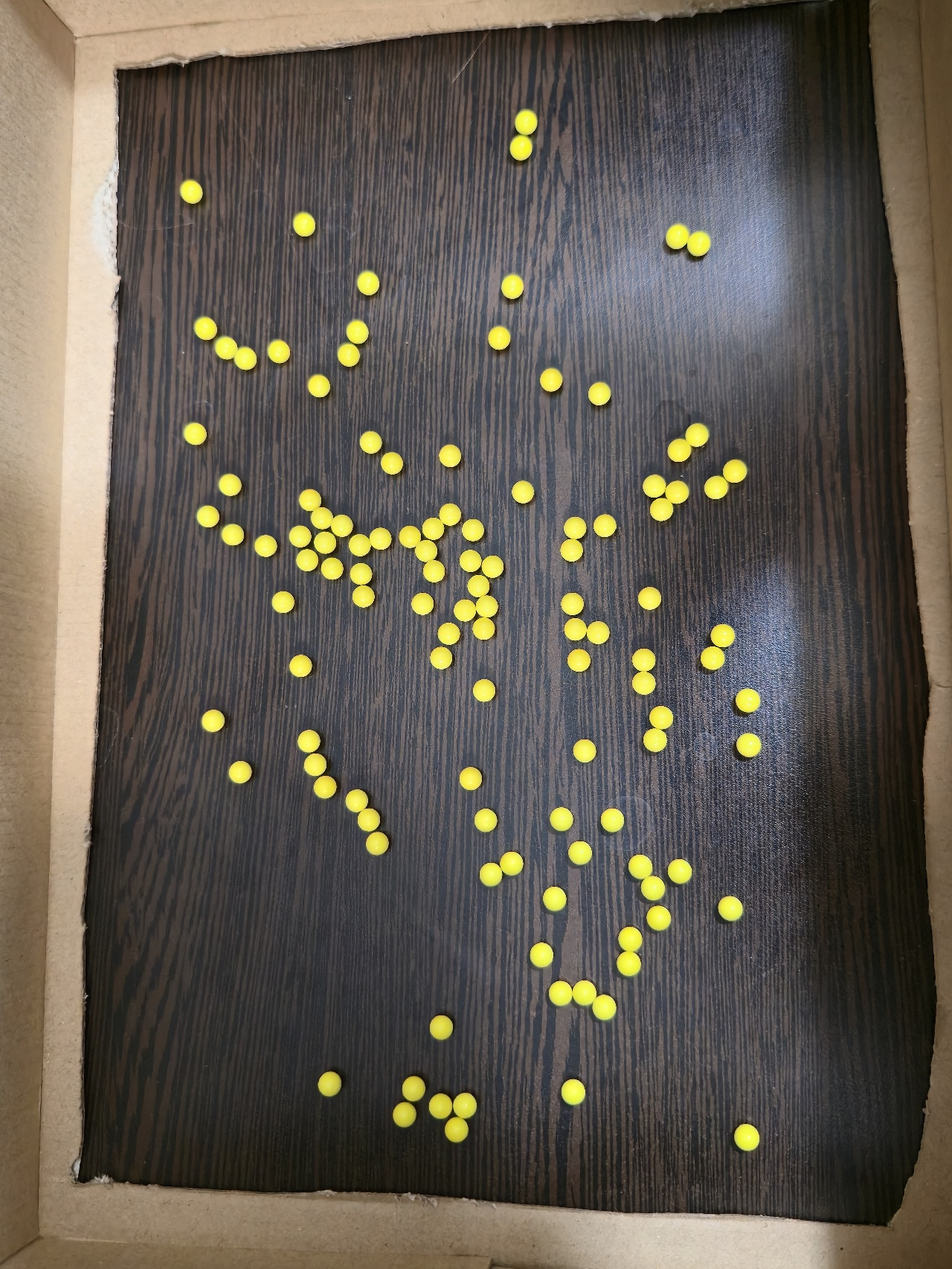yellow_bead: (740, 1131, 753, 1145), (459, 1099, 471, 1112), (578, 987, 591, 999), (624, 934, 637, 946), (647, 881, 659, 894), (634, 861, 646, 874), (567, 1086, 579, 1098), (599, 1001, 611, 1013), (555, 988, 567, 1000), (674, 866, 686, 878), (649, 734, 661, 746), (742, 695, 754, 707), (707, 652, 719, 664), (692, 238, 704, 250), (435, 1100, 446, 1113), (536, 949, 547, 962), (654, 912, 665, 925), (724, 903, 737, 914), (220, 342, 233, 353), (521, 115, 531, 129), (399, 1109, 410, 1121), (408, 1083, 419, 1095), (549, 893, 560, 905), (506, 858, 517, 870), (639, 677, 650, 689), (710, 482, 722, 493), (674, 445, 686, 456), (692, 429, 703, 441), (239, 353, 251, 364), (451, 1125, 462, 1136), (324, 1079, 335, 1090), (436, 1023, 447, 1034), (607, 815, 618, 826), (480, 815, 491, 826), (556, 814, 567, 825), (656, 504, 667, 515), (594, 388, 605, 399), (352, 327, 363, 338), (199, 323, 210, 334), (623, 960, 635, 970), (743, 739, 753, 751), (567, 544, 577, 556), (599, 521, 611, 531), (729, 466, 741, 476), (343, 349, 353, 361), (495, 332, 505, 344), (363, 277, 373, 289), (672, 230, 681, 243), (364, 815, 374, 826), (579, 746, 590, 756), (303, 737, 314, 747), (656, 713, 667, 723), (638, 656, 649, 666), (718, 631, 729, 641), (460, 606, 471, 616), (481, 602, 492, 612), (358, 591, 368, 602), (355, 540, 366, 550), (336, 521, 347, 531), (317, 513, 328, 523), (672, 488, 683, 498), (518, 487, 528, 498), (649, 482, 660, 492), (189, 428, 199, 439), (273, 346, 283, 357), (299, 220, 309, 231), (486, 870, 496, 880), (372, 839, 382, 849), (352, 796, 362, 806), (574, 656, 584, 666), (444, 629, 454, 639), (645, 594, 655, 604), (356, 569, 366, 579), (327, 564, 337, 574), (488, 562, 498, 572), (421, 546, 431, 556), (375, 534, 385, 544), (468, 525, 478, 535), (428, 524, 438, 534), (366, 438, 376, 448), (546, 375, 556, 385), (310, 761, 321, 770), (208, 717, 219, 726), (570, 625, 581, 634), (260, 542, 271, 551), (224, 481, 235, 490), (387, 458, 396, 469), (320, 783, 329, 793), (466, 774, 475, 784), (235, 768, 245, 777), (479, 686, 489, 695), (295, 662, 305, 671), (437, 654, 446, 664), (593, 629, 603, 638), (479, 624, 488, 634), (567, 600, 577, 609), (418, 600, 428, 609), (278, 598, 288, 607), (474, 581, 483, 591), (429, 566, 438, 576), (302, 556, 312, 565), (405, 533, 415, 542), (295, 532, 304, 542), (227, 530, 237, 539), (570, 524, 580, 533), (305, 497, 315, 506), (314, 382, 324, 391), (186, 188, 196, 197), (320, 538, 329, 547), (203, 512, 212, 521), (446, 452, 455, 461), (446, 510, 454, 520), (507, 288, 517, 293), (466, 556, 475, 561), (574, 852, 581, 858), (516, 146, 518, 154), (575, 851, 576, 852), (582, 858, 583, 858)
